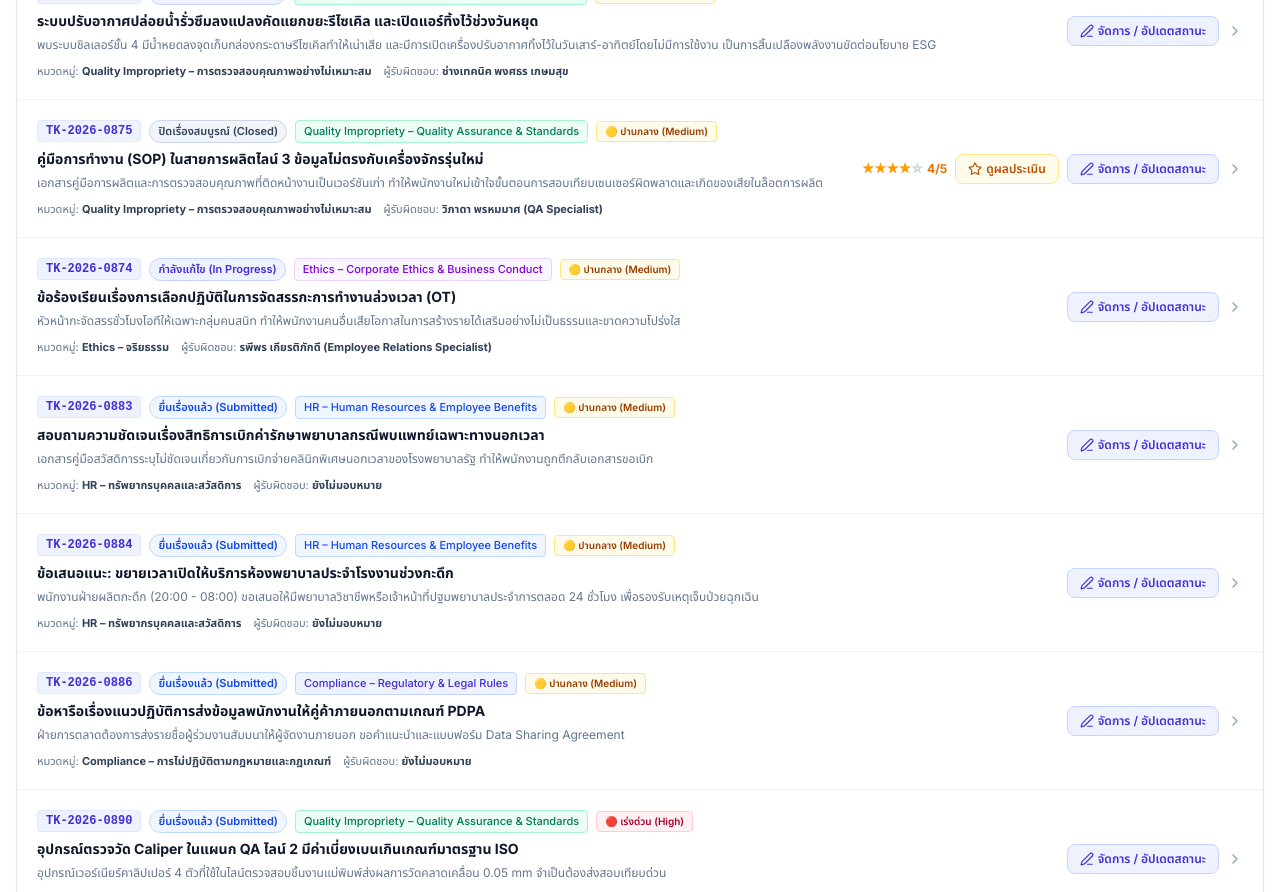
Scenario: GatekeeperInbox › triage modal › pre-fills the form from the ticket and next workflow status
(page scrolled)
What coordinates should you click on to do the following:
click the 4th button "จัดการ / อัปเดตสถานะ"
I would click on:
 (1143, 444)
Its box is [1067,430,1219,460].
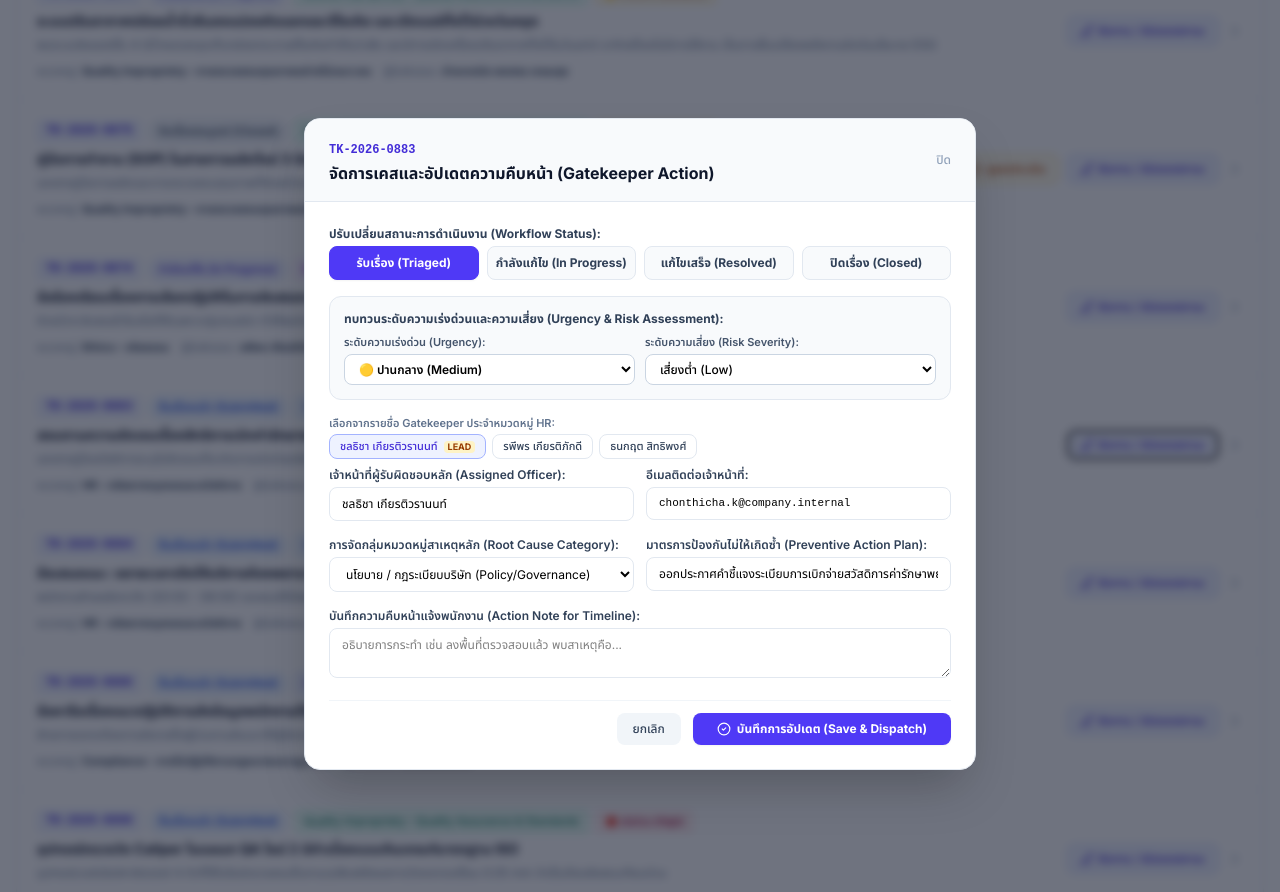
Expected: the dropdown labelled "ระดับความเร่งด่วน (Urgency):" shows "🟡 ปานกลาง (Medium)", [344,354,635,385]
Expected: the dropdown labelled "ระดับความเสี่ยง (Risk Severity):" shows "เสี่ยงต่ำ (Low)", [645,354,936,385]
Expected: the button "กำลังแก้ไข (In Progress)" is shown, [486,246,636,280]
